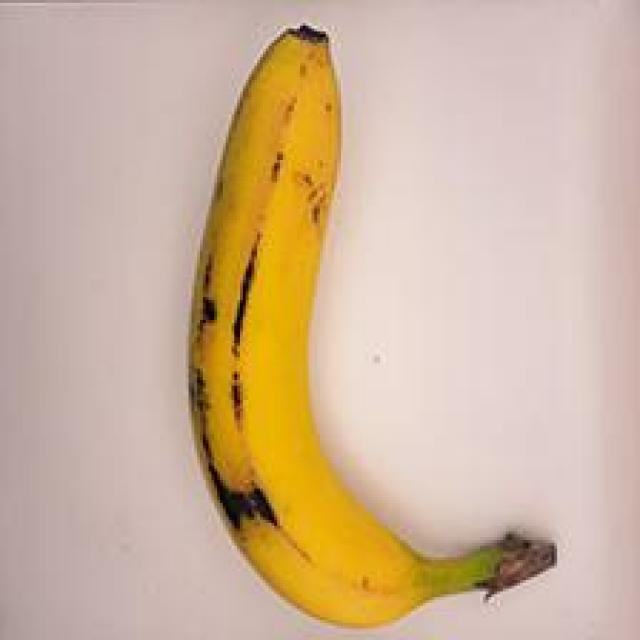ripe: (118, 6, 582, 634)
